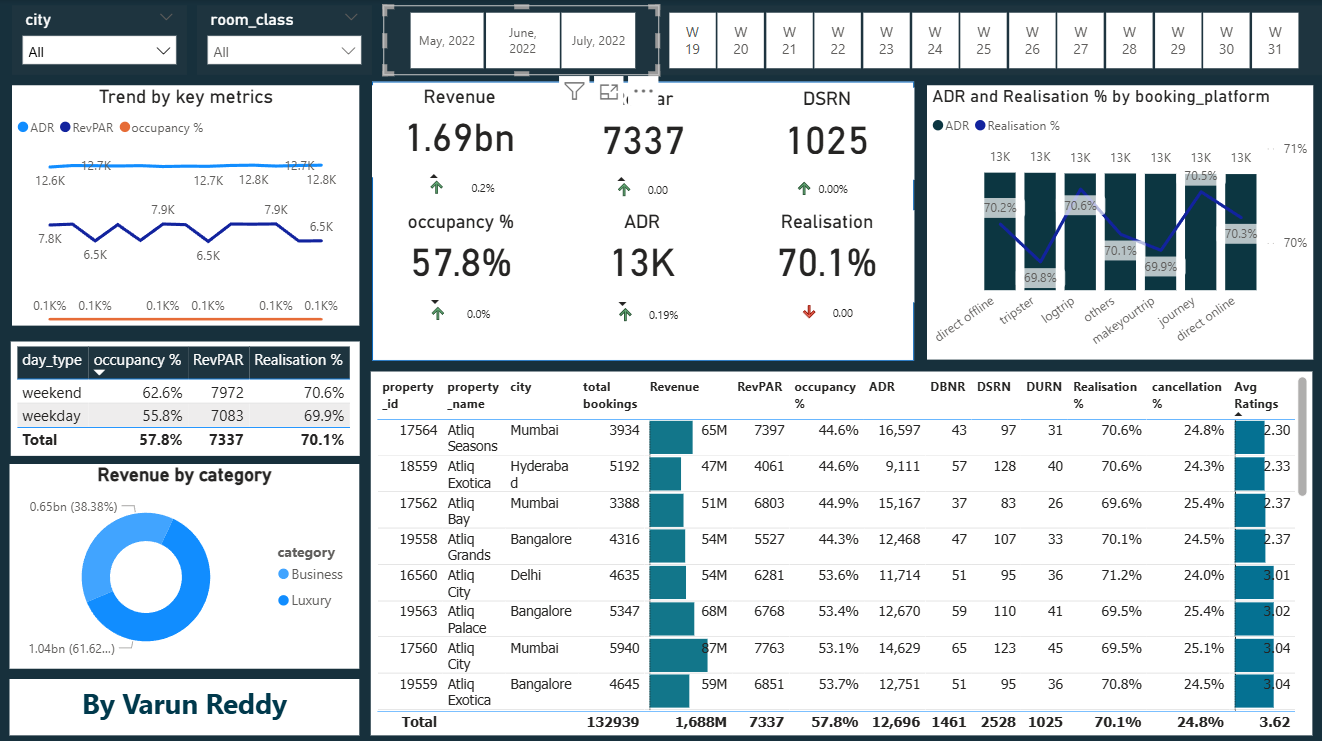

Layout of this report page (visuals, bound fields, positions):
{"tool":"powerbi","page":{"name":"DashBoard 1","canvas":[1280,720],"ordinal":0},"visuals":[{"type":"tableEx","fields":{"Values":["dim_hotels.property_id","dim_hotels.property_name","dim_hotels.city","Key_measures.total bookings","Key_measures.Revenue","Key_measures.RevPAR","Key_measures.occupancy %","Key_measures.ADR","Key_measures.DBNR","Key_measures.DSRN","Key_measures.DURN","Key_measures.Realisation %"]},"box":[361.2,360,908.8,351.2],"z":0},{"type":"slicer","fields":{"Values":["dim_hotels.city"]},"box":[14.3,5.7,168.6,67.1],"z":1000},{"type":"slicer","fields":{"Values":["dim_rooms.room_class"]},"box":[192.9,5.7,168.6,67.1],"z":2000},{"type":"donutChart","fields":{"Y":["Key_measures.Revenue"],"Series":["dim_hotels.category"]},"box":[12.2,448.9,337.8,197.8],"z":3000},{"type":"slicer","fields":{"Values":["dim_date.mmm yy"]},"box":[372.5,6.2,267.5,67.5],"z":4000},{"type":"slicer","fields":{"Values":["dim_date.week_lable"]},"box":[622.5,6.2,657.5,67.5],"z":5000},{"type":"shape","box":[361.6,79.1,523.3,269.8],"z":6000},{"type":"lineStackedColumnComboChart","fields":{"Y":["Key_measures.ADR"],"Y2":["Key_measures.Realisation %"],"Category":["fact_bookings.booking_platform"]},"box":[897.5,83.8,372.5,265],"z":7000},{"type":"tableEx","fields":{"Values":["dim_date.day_type","Key_measures.occupancy %","Key_measures.RevPAR","Key_measures.Realisation %"]},"box":[13.3,330,336.7,110],"z":8000},{"type":"lineChart","title":"Trend by key metrics","fields":{"Y":["Key_measures.ADR","Key_measures.RevPAR","Key_measures.occupancy %"],"Category":["dim_date.wn"]},"box":[14.4,83.3,335.6,232.2],"z":9000},{"type":"card","title":"Revenue","fields":{"Values":["Key_measures.Revenue"]},"box":[362.2,83.3,168.9,88.9],"z":10000},{"type":"tableEx","fields":{"Values":["Key_measures.Revenue wow % change"]},"box":[406.6,148.4,91.7,55.5],"z":11000},{"type":"card","title":"RevPar","fields":{"Values":["Key_measures.RevPAR"]},"box":[539.3,85.3,168.9,88.9],"z":12000},{"type":"card","title":"occupancy %","fields":{"Values":["Key_measures.occupancy %"]},"box":[363.3,204.4,168.9,88.9],"z":13000},{"type":"tableEx","fields":{"Values":["Key_measures.occupancy wow change %"]},"box":[407.8,270.2,90.5,60.3],"z":14000},{"type":"card","title":"ADR","fields":{"Values":["Key_measures.ADR"]},"box":[537.8,203.3,168.9,88.9],"z":15000},{"type":"tableEx","fields":{"Values":["Key_measures.ADR WoW change %"]},"box":[588.8,271.2,78.8,58.8],"z":16000},{"type":"card","title":"DSRN","fields":{"Values":["Key_measures.DURN"]},"box":[716.7,85.6,168.9,88.9],"z":17000},{"type":"tableEx","fields":{"Values":["Key_measures.DSRN WoW change %"]},"box":[761.6,149.1,80,45.6],"z":18000},{"type":"card","title":"Realisation","fields":{"Values":["Key_measures.Realisation %"]},"box":[716.7,204.4,168.9,88.9],"z":19000},{"type":"tableEx","fields":{"Values":["Key_measures.Realisation WoW change %"]},"box":[766,269.1,80,45.6],"z":20000},{"type":"tableEx","fields":{"Values":["Key_measures.Revpar WoW change %"]},"box":[587.8,151.1,80,52.2],"z":21000},{"type":"textbox","box":[12.2,656.7,337.8,54.4],"z":22000}]}

Visuals, with their boxes in screenshot pixels (x1, y1, x2, y2), scaled from the page's 1280x720 canvas onto the 1322x741 screenshot:
tableEx - dim_hotels.property_id x dim_hotels.property_name: select_region(373, 370, 1312, 732)
slicer - dim_hotels.city: select_region(15, 6, 189, 75)
slicer - dim_rooms.room_class: select_region(199, 6, 373, 75)
donutChart - Key_measures.Revenue x dim_hotels.category: select_region(13, 462, 361, 666)
slicer - dim_date.mmm yy: select_region(385, 6, 661, 76)
slicer - dim_date.week_lable: select_region(643, 6, 1321, 76)
shape: select_region(373, 81, 914, 359)
lineStackedColumnComboChart - Key_measures.ADR x Key_measures.Realisation %: select_region(927, 86, 1312, 359)
tableEx - dim_date.day_type x Key_measures.occupancy %: select_region(14, 340, 361, 453)
"Trend by key metrics" lineChart: select_region(15, 86, 361, 325)
"Revenue" card: select_region(374, 86, 549, 177)
tableEx - Key_measures.Revenue wow % change: select_region(420, 153, 515, 210)
"RevPar" card: select_region(557, 88, 731, 179)
"occupancy %" card: select_region(375, 210, 550, 302)
tableEx - Key_measures.occupancy wow change %: select_region(421, 278, 515, 340)
"ADR" card: select_region(555, 209, 730, 301)
tableEx - Key_measures.ADR WoW change %: select_region(608, 279, 690, 340)
"DSRN" card: select_region(740, 88, 915, 180)
tableEx - Key_measures.DSRN WoW change %: select_region(787, 153, 869, 200)
"Realisation" card: select_region(740, 210, 915, 302)
tableEx - Key_measures.Realisation WoW change %: select_region(791, 277, 874, 324)
tableEx - Key_measures.Revpar WoW change %: select_region(607, 156, 690, 209)
textbox: select_region(13, 676, 361, 732)
